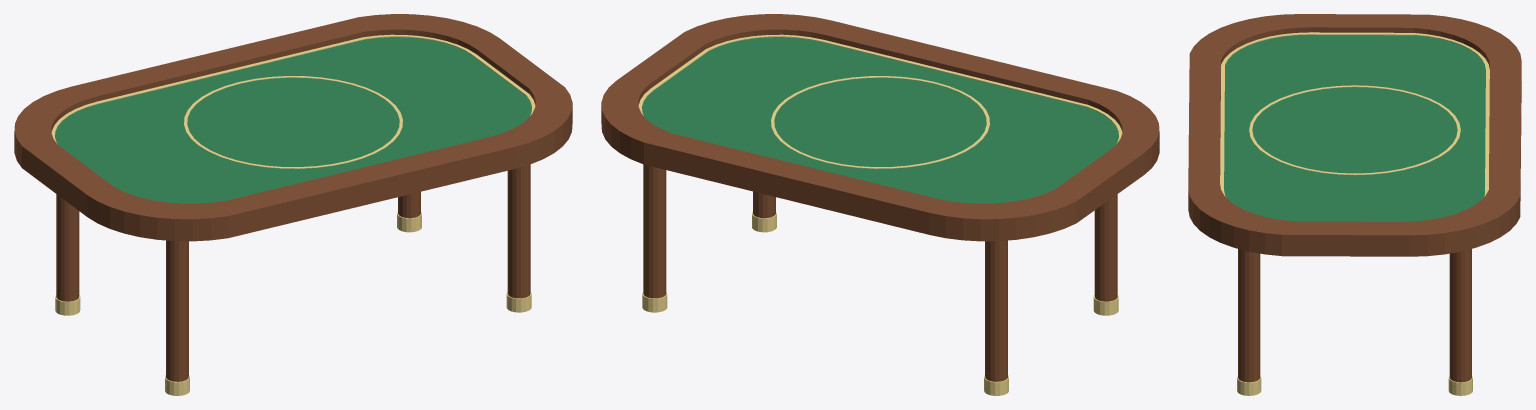
The model's file is table_cozy.glb.
The picture shows the model from 3 angles, left to right: view 1: azimuth 30°, elevation 25°; view 2: azimuth 150°, elevation 25°; view 3: azimuth 270°, elevation 25°; orthographic projection. The views are drawn at different scales.
Parts seen in each view (by area): view 1: CozyFelt, CozyWoodRim, CozyApron, WoodLeg_1, WoodLeg_2, WoodLeg_3, CozyBrassInlay, CozyCenterRing, WoodLeg_4; view 2: CozyFelt, CozyWoodRim, CozyApron, WoodLeg_3, WoodLeg_4, WoodLeg_1, CozyBrassInlay, CozyCenterRing, WoodLeg_2; view 3: CozyFelt, CozyWoodRim, CozyApron, WoodLeg_2, WoodLeg_4, CozyBrassInlay, CozyCenterRing, BrassFoot_2, BrassFoot_4.
Part boxes in pixels (x1,y1,x2,y2): CozyFelt: [55, 37, 531, 203]; CozyWoodRim: [14, 14, 572, 227]; CozyApron: [14, 110, 572, 241]; WoodLeg_1: [166, 240, 188, 381]; WoodLeg_2: [507, 164, 530, 298]; WoodLeg_3: [56, 194, 79, 301]; CozyBrassInlay: [51, 34, 535, 143]; CozyCenterRing: [184, 76, 402, 168]; WoodLeg_4: [398, 191, 420, 218]; CozyFelt: [642, 37, 1118, 203]; CozyWoodRim: [601, 14, 1159, 227]; CozyApron: [601, 110, 1159, 241]; WoodLeg_3: [985, 240, 1007, 381]; WoodLeg_4: [643, 164, 666, 298]; WoodLeg_1: [1094, 194, 1117, 301]; CozyBrassInlay: [638, 34, 1122, 143]; CozyCenterRing: [771, 76, 989, 168]; WoodLeg_2: [753, 191, 775, 218]; CozyFelt: [1224, 35, 1485, 221]; CozyWoodRim: [1188, 14, 1521, 242]; CozyApron: [1188, 89, 1521, 256]; WoodLeg_2: [1238, 249, 1260, 382]; WoodLeg_4: [1449, 249, 1471, 382]; CozyBrassInlay: [1220, 32, 1489, 196]; CozyCenterRing: [1249, 85, 1460, 175]; BrassFoot_2: [1237, 376, 1261, 395]; BrassFoot_4: [1448, 376, 1472, 395].
Bounding box in the file's own units: 1.98 × 0.774 × 1.26.
